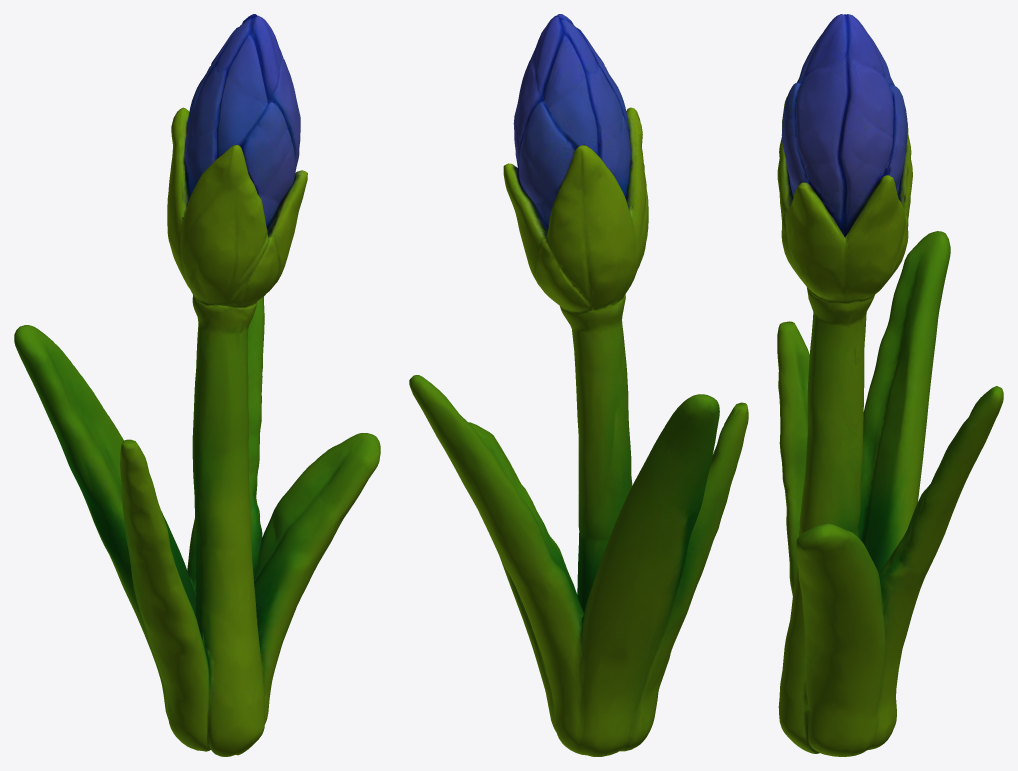
Rendered from iris_s3.glb.
The picture shows the model from 3 angles, left to right: view 1: azimuth 30°, elevation 25°; view 2: azimuth 150°, elevation 25°; view 3: azimuth 270°, elevation 25°; orthographic projection. The views are drawn at different scales.
Size of the model in its own units: 0.4524 by 1 by 0.2729.
1 material, 1 textured.
